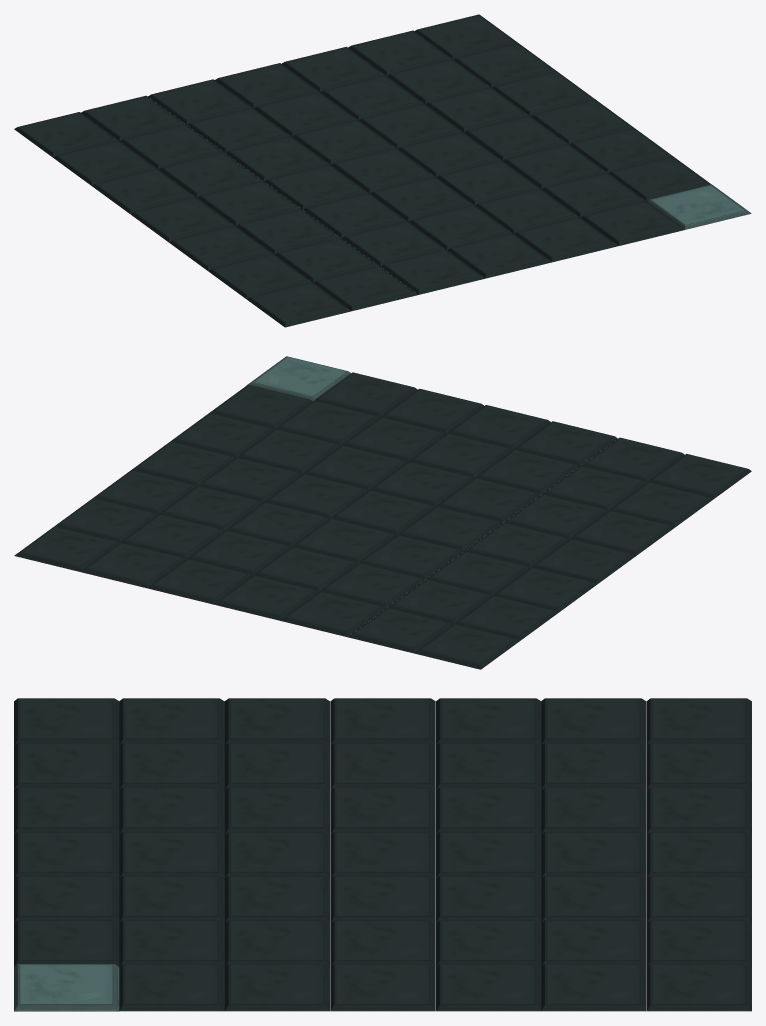
File: TileGrounds.fbx
3 renders of one model, top to bottom at view 1: azimuth 30°, elevation 25°; view 2: azimuth 150°, elevation 25°; view 3: azimuth 270°, elevation 25°, orthographic. The views are drawn at different scales.
Visible parts, largest first — view 1: pCube8, pCube12, pCube5, pCube9, pCube13, pCube4, pCube1, pCube27, pCube18, pCube32, pCube20, pCube25 (+37 smaller); view 2: pCube48, pCube46, pCube45, pCube47, pCube43, pCube44, pCube49, pCube18, pCube11, pCube20, pCube27, pCube25 (+37 smaller); view 3: pCube14, pCube21, pCube28, pCube35, pCube42, pCube1, pCube49, pCube10, pCube19, pCube26, pCube9, pCube33 (+37 smaller).
Part boxes in pixels (bbox=[...]): pCube8: bbox=[380, 249, 485, 294]; pCube12: bbox=[246, 282, 351, 327]; pCube5: bbox=[447, 233, 551, 278]; pCube9: bbox=[313, 265, 418, 310]; pCube13: bbox=[580, 200, 684, 245]; pCube4: bbox=[514, 217, 618, 262]; pCube1: bbox=[647, 184, 751, 229]; pCube27: bbox=[130, 197, 234, 242]; pCube18: bbox=[303, 192, 406, 238]; pCube32: bbox=[225, 136, 329, 181]; pCube20: bbox=[169, 225, 273, 270]; pCube25: bbox=[264, 164, 367, 209]; pCube48: bbox=[414, 624, 519, 669]; pCube46: bbox=[280, 591, 385, 636]; pCube45: bbox=[213, 575, 318, 620]; pCube47: bbox=[347, 607, 451, 653]; pCube43: bbox=[81, 542, 184, 588]; pCube44: bbox=[147, 558, 251, 604]; pCube49: bbox=[14, 526, 118, 571]; pCube18: bbox=[436, 478, 540, 523]; pCube11: bbox=[609, 482, 712, 527]; pCube20: bbox=[570, 510, 673, 556]; pCube27: bbox=[532, 539, 635, 584]; pCube25: bbox=[398, 506, 501, 551]; pCube14: bbox=[119, 964, 224, 1011]; pCube21: bbox=[224, 964, 329, 1011]; pCube28: bbox=[330, 964, 435, 1011]; pCube35: bbox=[436, 964, 541, 1011]; pCube42: bbox=[541, 964, 646, 1011]; pCube1: bbox=[14, 964, 119, 1011]; pCube49: bbox=[646, 964, 751, 1011]; pCube10: bbox=[119, 742, 224, 789]; pCube19: bbox=[224, 742, 329, 789]; pCube26: bbox=[330, 742, 435, 789]; pCube9: bbox=[14, 742, 119, 789]; pCube33: bbox=[436, 742, 541, 789].
Size of the model in its own units: 166 by 1.03 by 167.
